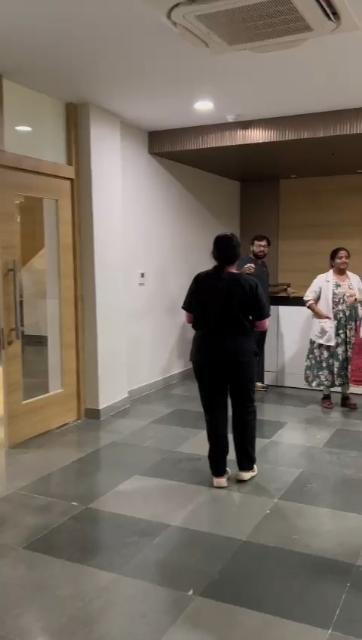door: (0, 164, 80, 432)
floor: (0, 391, 362, 640)
moving-obj: (167, 209, 279, 503), (318, 253, 362, 399), (260, 232, 272, 314)
wall: (74, 98, 168, 386)
